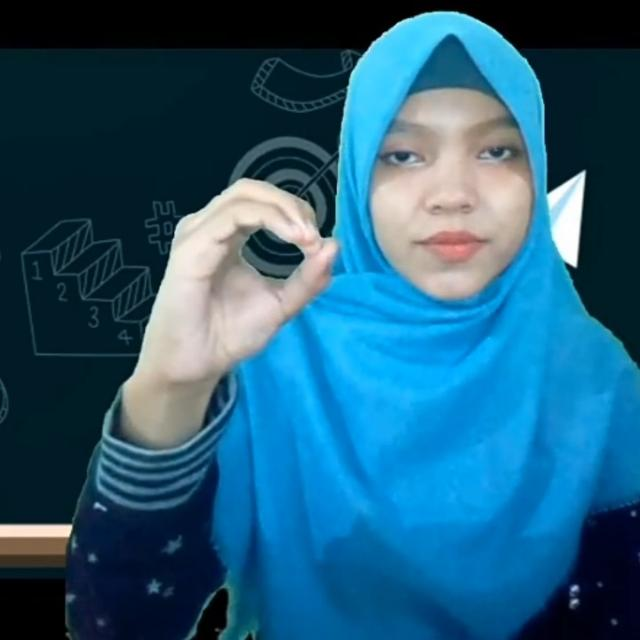O: (151, 170, 341, 384)
